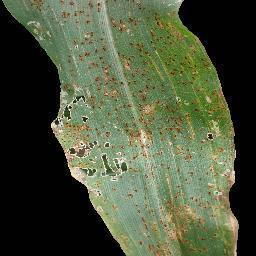Corn_Common_Rust: (65, 152, 237, 256), (2, 0, 219, 82), (46, 82, 233, 153), (233, 204, 239, 206)
